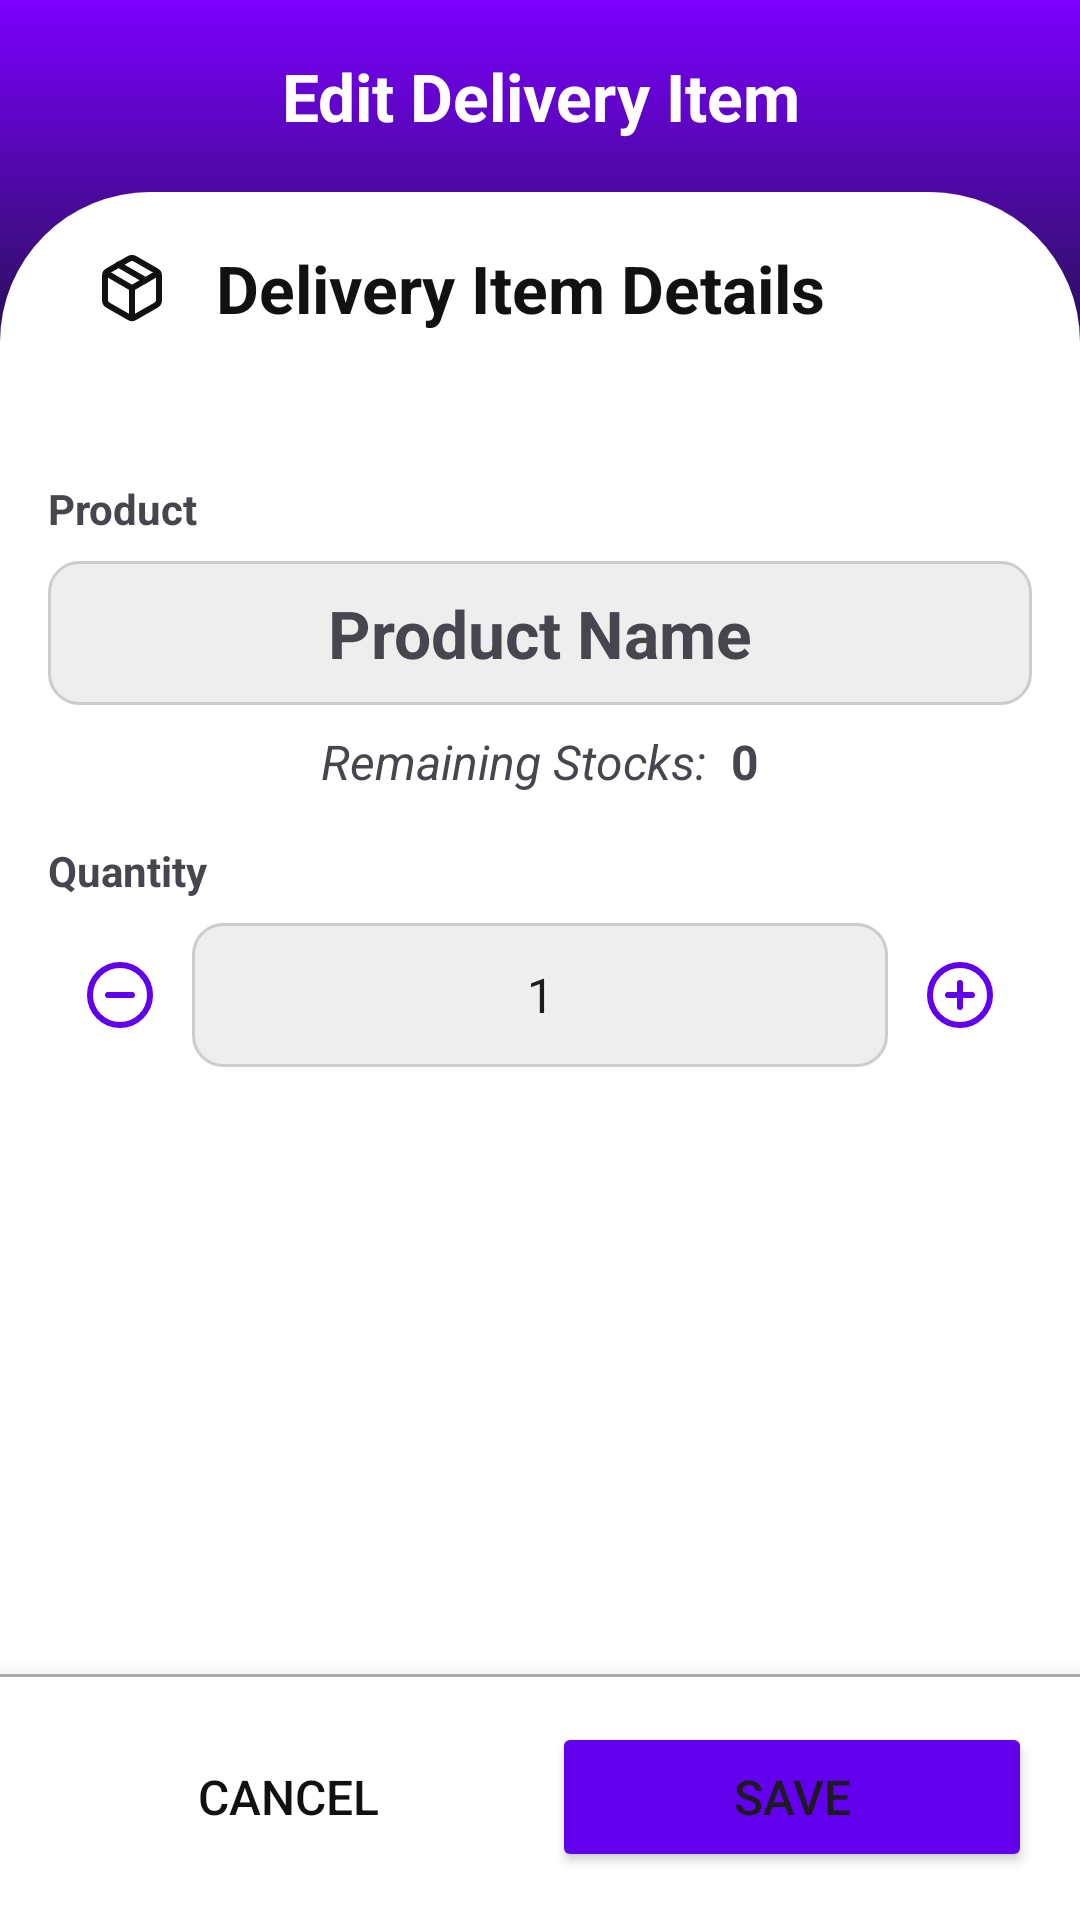

Named icons in this screenshot (1080px x 1920px) and their bounding boxes, detection(x1, y1, x2, y2):
minus circle: detection(87, 962, 153, 1028)
plus circle: detection(927, 962, 993, 1028)
